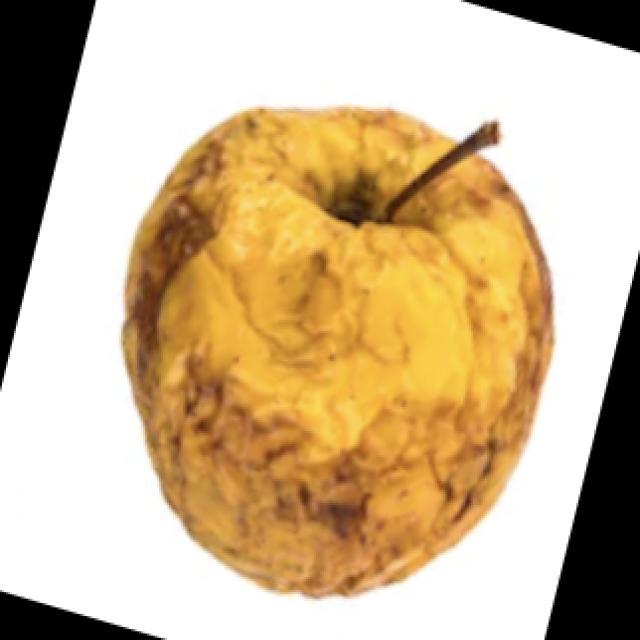Rotten: (140, 86, 525, 640)
